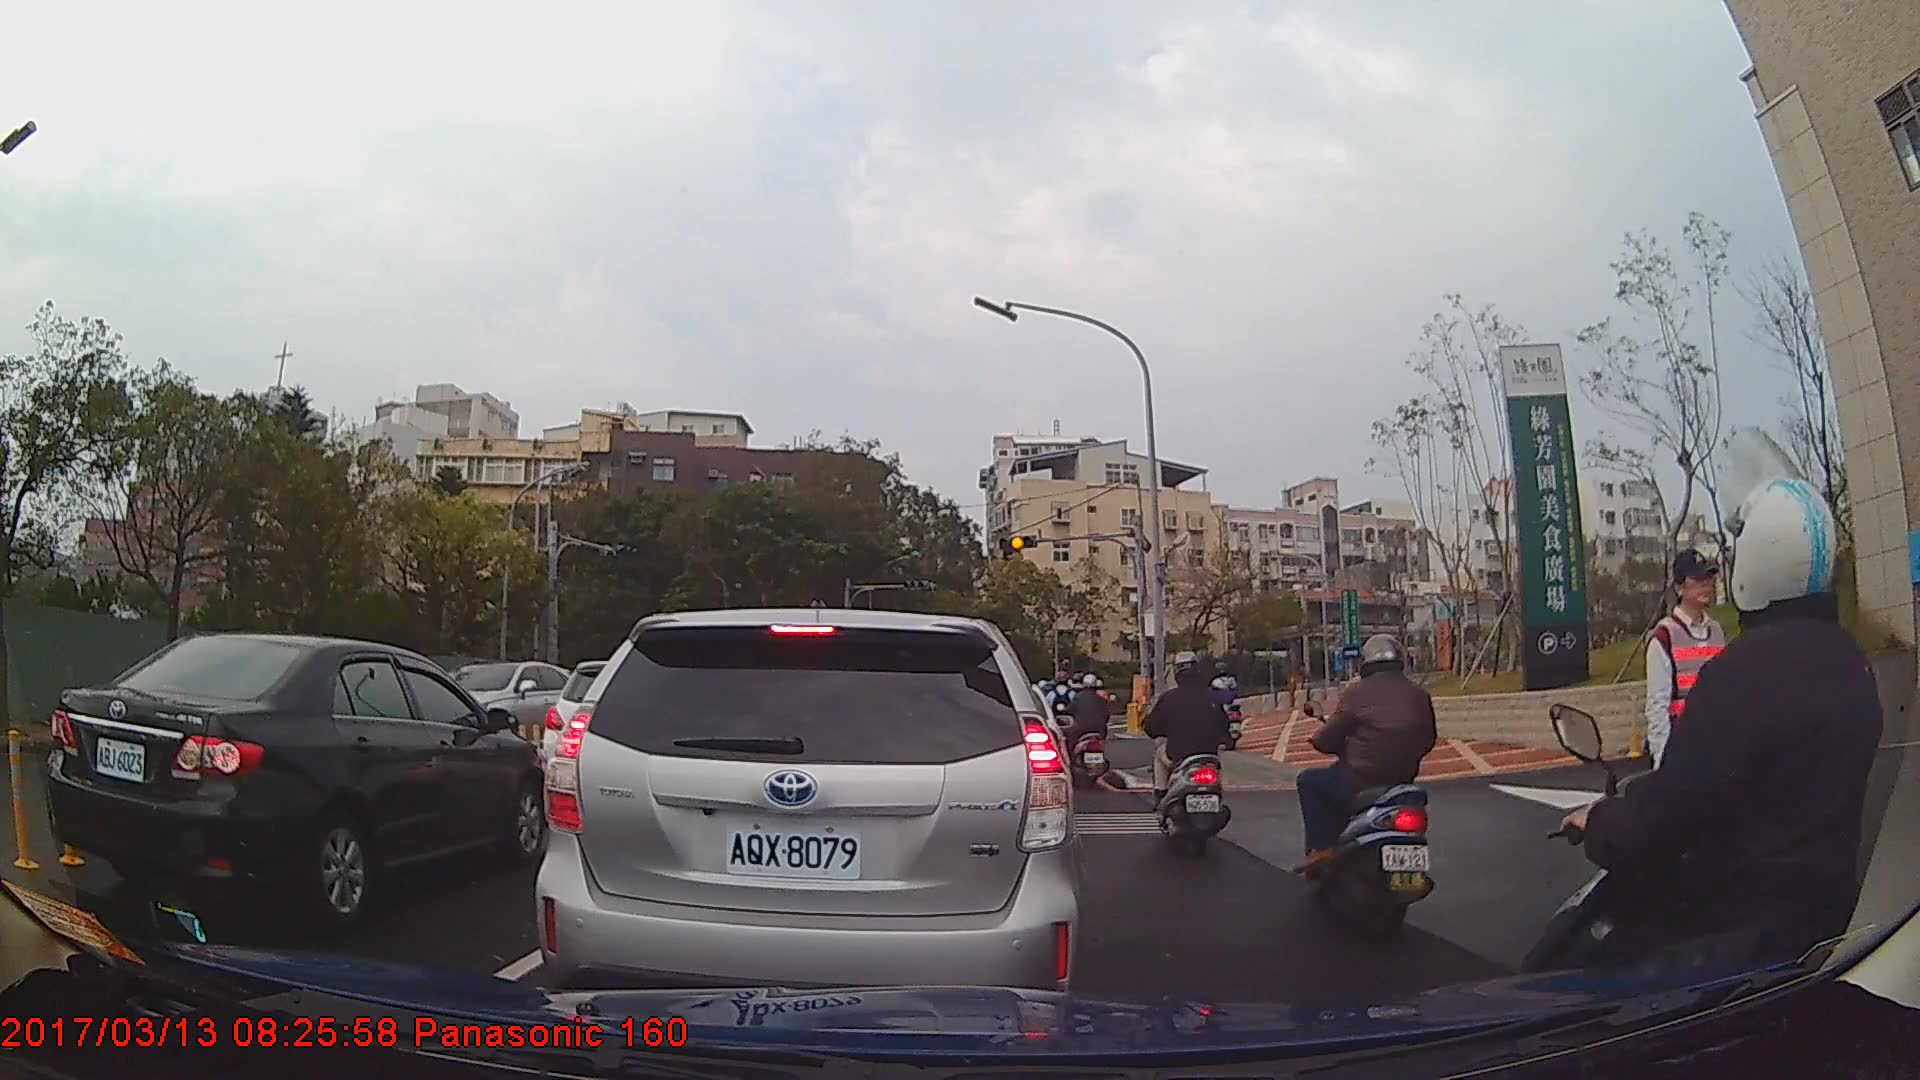rider: (1541, 471, 1920, 1080), (1296, 633, 1449, 939), (1144, 647, 1236, 864), (1070, 672, 1114, 793), (1206, 662, 1242, 754)
vehicle: (534, 606, 1079, 1021), (45, 631, 555, 926), (437, 660, 574, 754)
